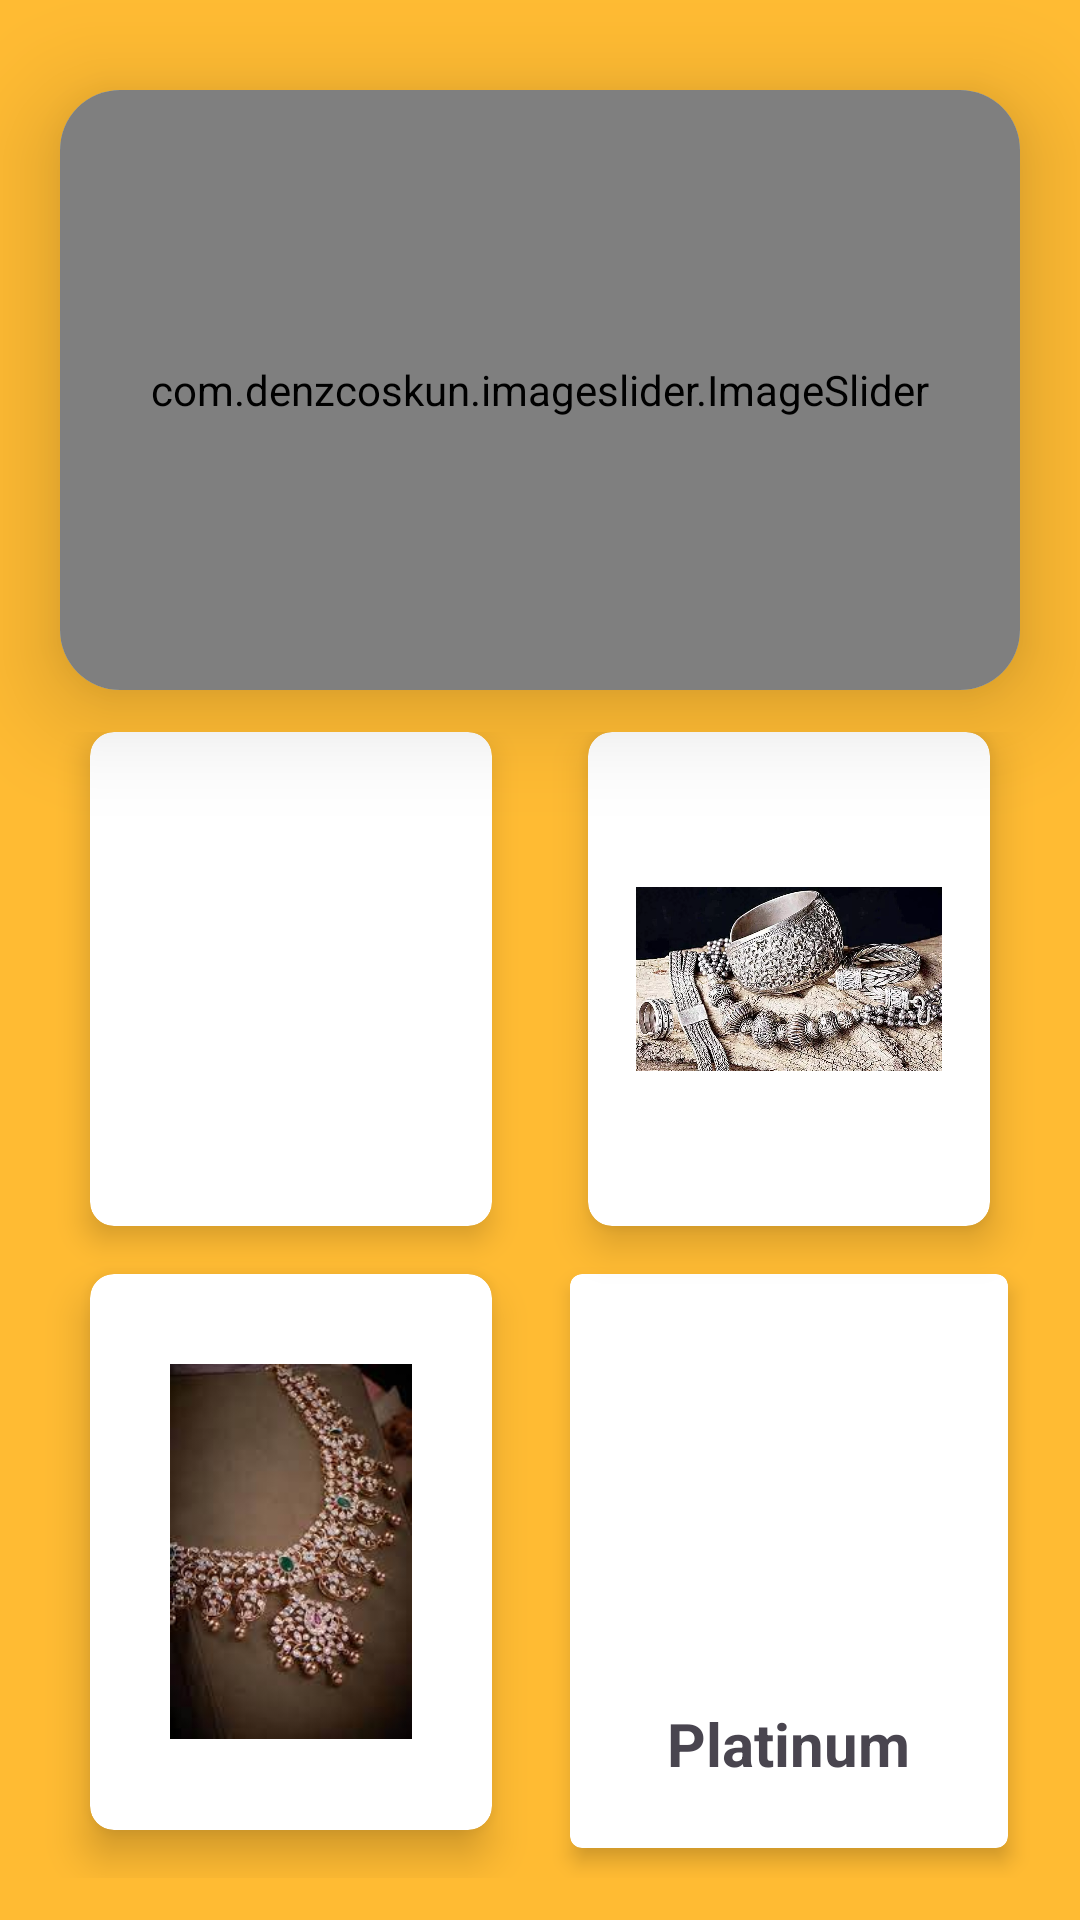

Point at icon controls on the screen. Image size 1080w x 1920h, points as (x=x, y=y).
silver: (x=789, y=979)
